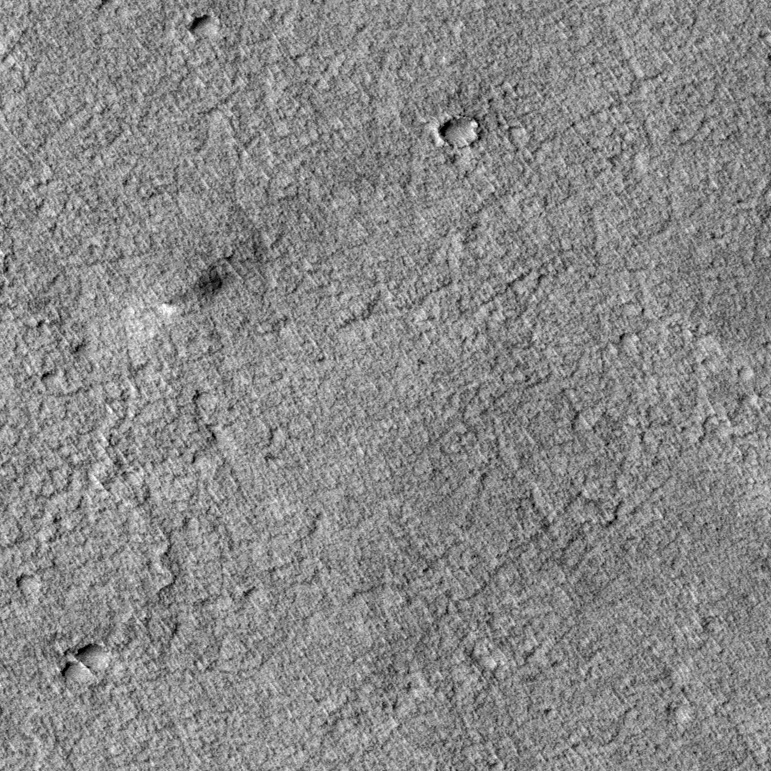dust_devil: (147, 255, 235, 327)
